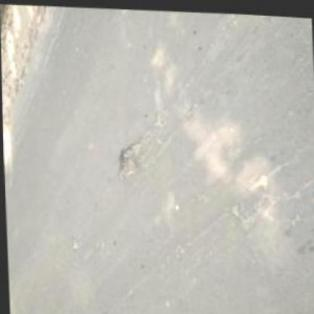Hueco: (114, 136, 144, 179), (10, 27, 22, 51), (252, 169, 267, 186), (68, 235, 78, 248), (3, 28, 10, 40), (8, 13, 13, 25)
